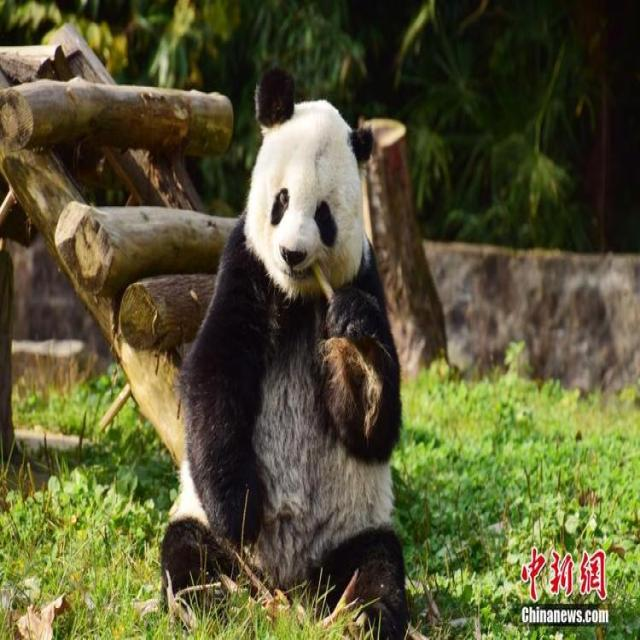panda: (154, 85, 440, 627)
